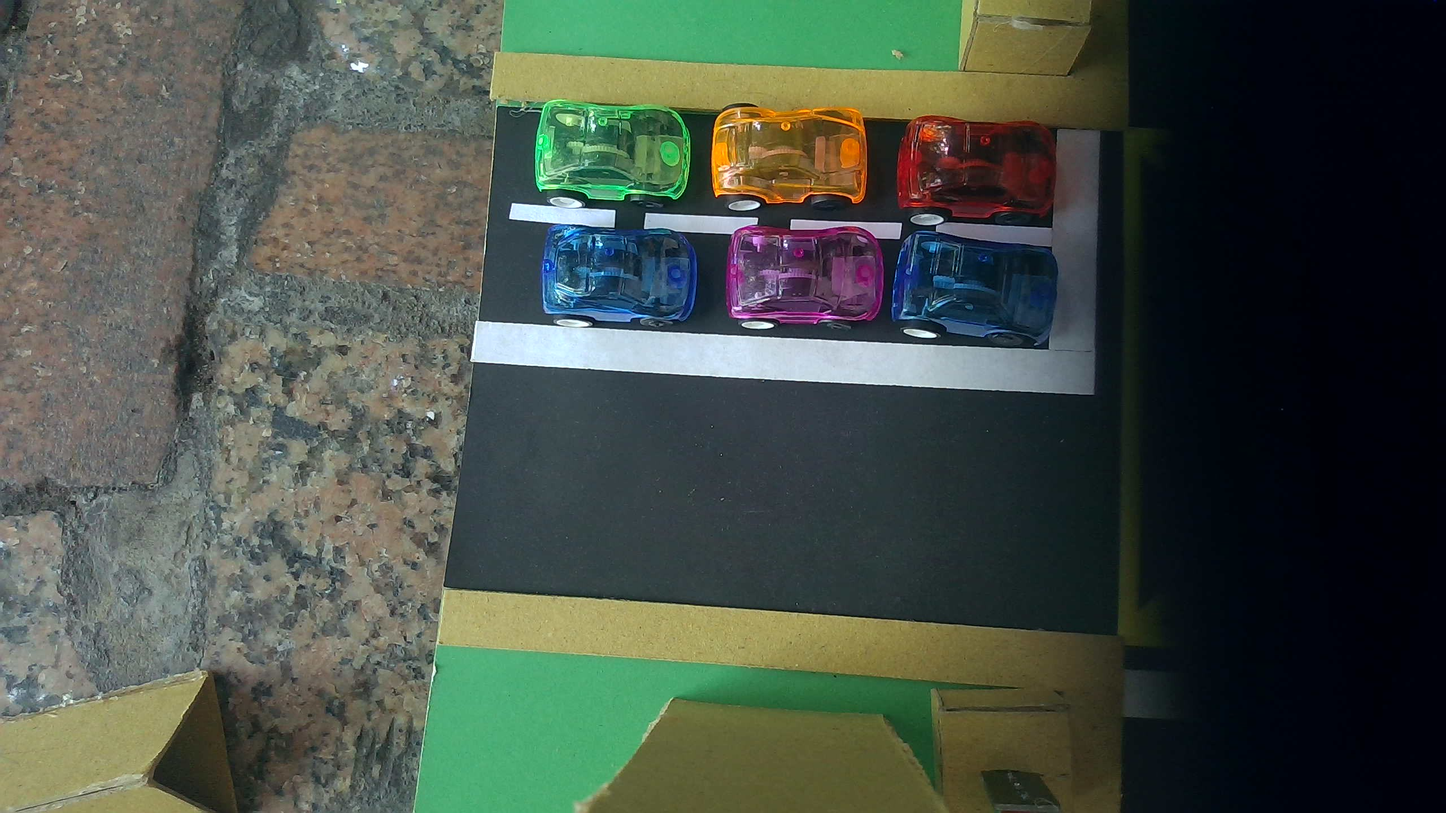Mobil biru: (891, 231, 1058, 347), (540, 224, 698, 327)
Mobil hijau: (534, 99, 691, 208)
Mobil merah: (897, 116, 1055, 225)
Mobil orange: (896, 116, 1056, 225), (710, 105, 868, 210)
Mobil ungu: (725, 226, 885, 329)
